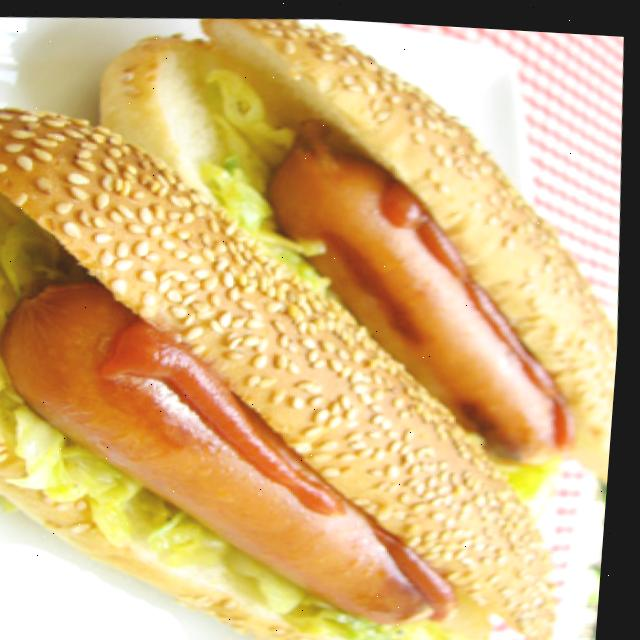汉堡快餐: (0, 64, 613, 640), (61, 4, 640, 538)
